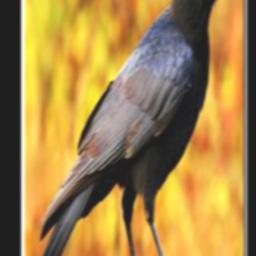Crow: (33, 0, 230, 256)
